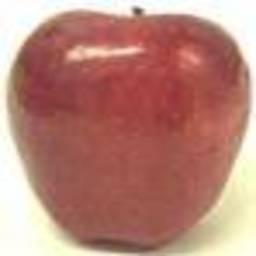apple: (9, 9, 250, 251)
